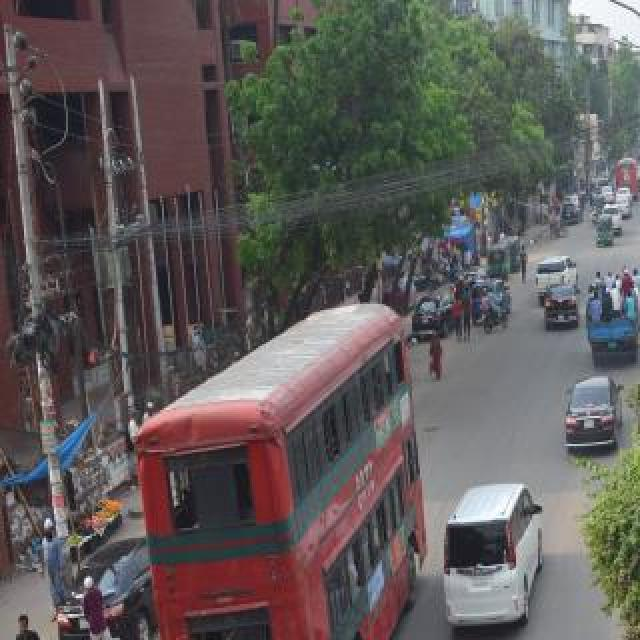bus: (68, 278, 508, 640), (608, 150, 640, 210)
car: (432, 420, 574, 640), (36, 488, 156, 640), (544, 354, 640, 474), (443, 248, 501, 318), (416, 271, 466, 341), (527, 243, 581, 301), (537, 260, 579, 334), (597, 205, 627, 239), (559, 192, 583, 232), (612, 189, 632, 221), (593, 179, 609, 203)
van: (578, 266, 640, 368)
